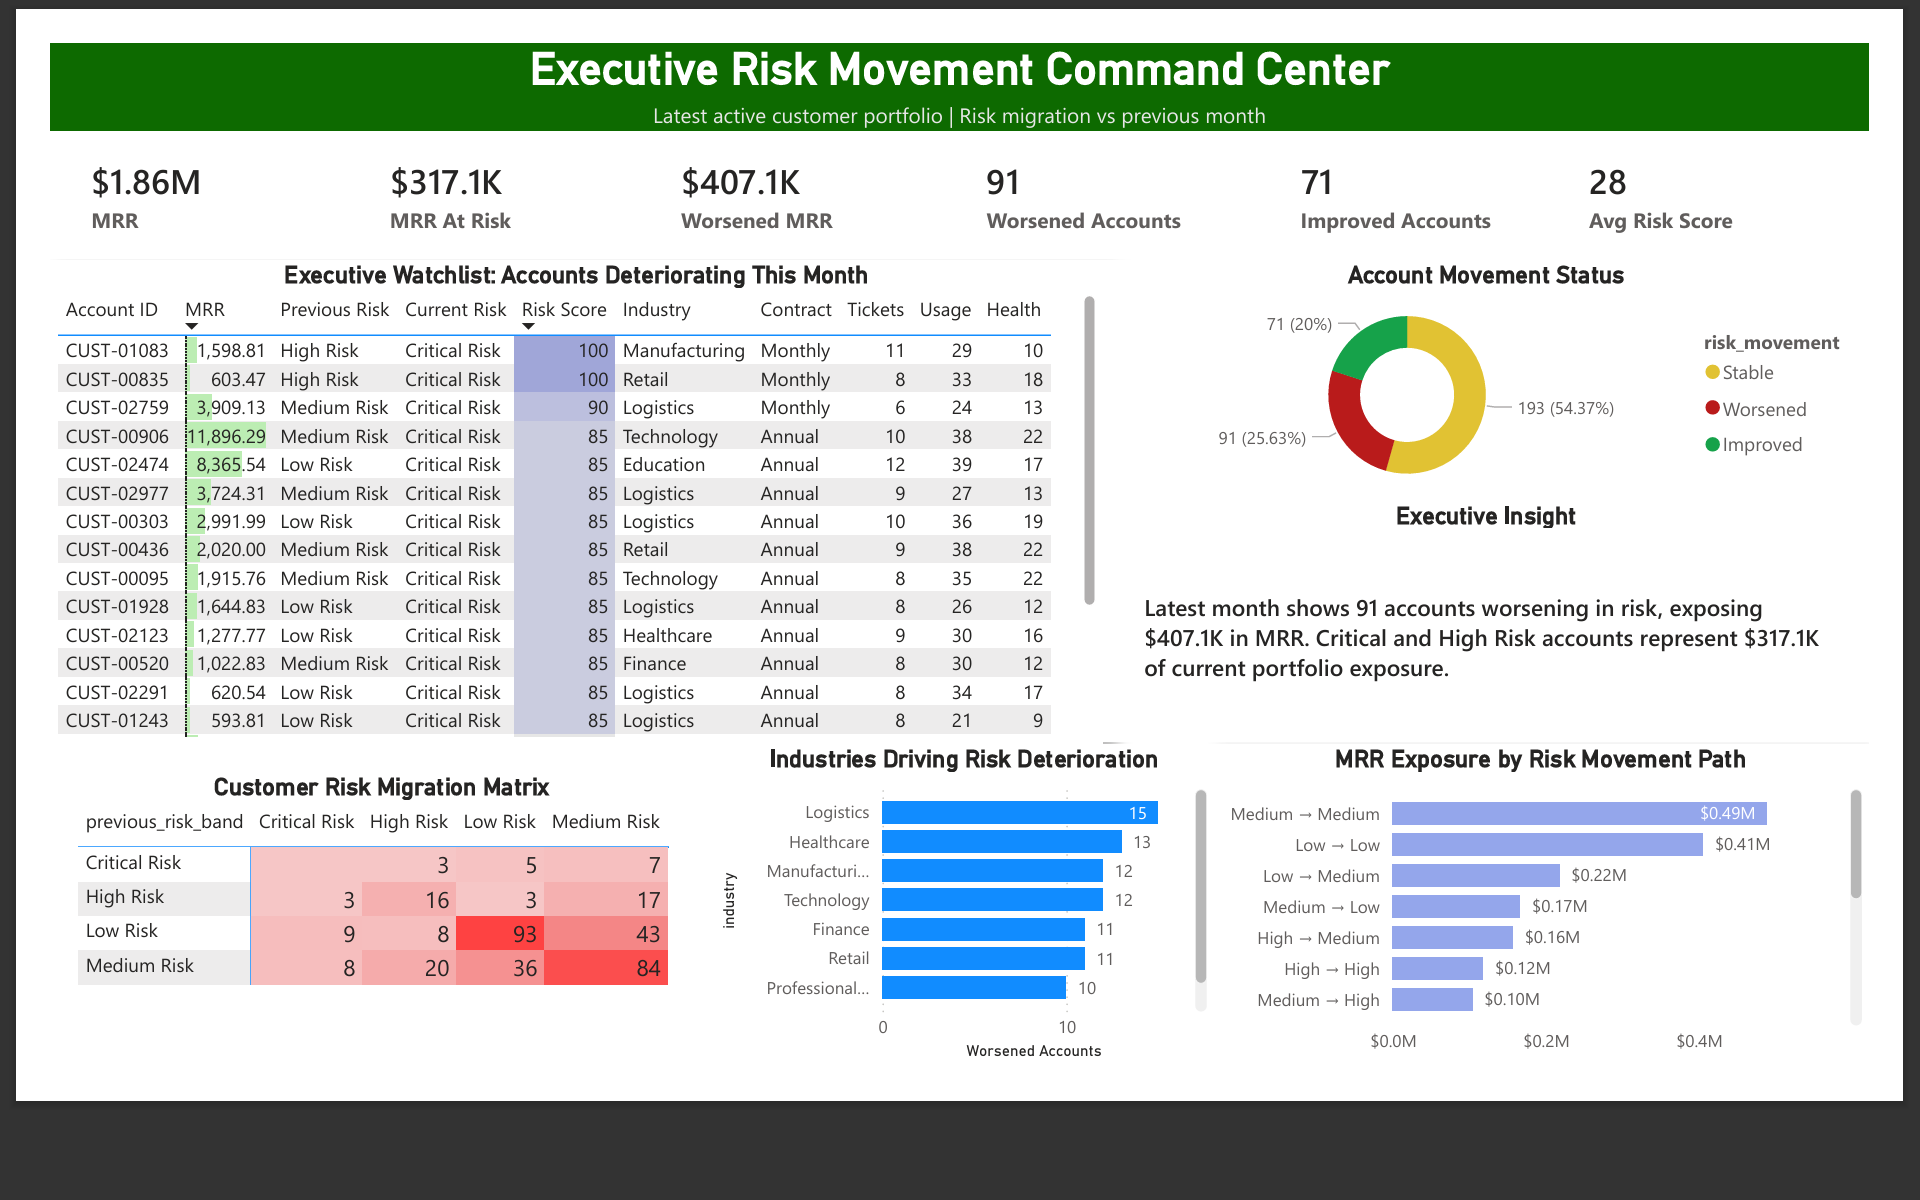

This screenshot's page, from the dashboard's own definition file:
{"tool":"powerbi","page":{"name":"Executive Risk Movement Command Center","canvas":[1280,720],"ordinal":0},"visuals":[{"type":"shape","title":"Executive Risk Movement Command Center","box":[0,0,1280,62],"z":0},{"type":"clusteredBarChart","title":"MRR Exposure by Risk Movement Path","fields":{"Y":["Risk Migration.Migration MRR"],"Category":["Risk Migration.Short Migration Path"]},"box":[818.5,493.2,461.8,227],"z":1000},{"type":"tableEx","title":"Executive Watchlist: Accounts Deteriorating This Month","fields":{"Values":["Risk Migration.company_id","Risk Migration.current_mrr","Risk Migration.previous_risk_band","Risk Migration.current_risk_band","Risk Migration.current_risk_score","Risk Migration.industry","Risk Migration.contract_type","Risk Migration.support_tickets","Risk Migration.feature_usage_score","Risk Migration.account_health_score"]},"box":[0,153.3,740.8,340],"z":3000},{"type":"cardVisual","title":"Executive Insight","fields":{"Data":["Churn Risk Scores.Executive Insight Summary"]},"box":[741.3,322.2,538.7,169.4],"z":4000},{"type":"donutChart","title":"Account Movement Status","fields":{"Category":["Risk Migration.risk_movement"],"Y":["Risk Migration.Migration Accounts"]},"box":[740.8,153.3,539.4,170],"z":5000},{"type":"cardVisual","fields":{"Data":["Risk Migration.Migration MRR"]},"box":[0,62.4,210.1,90.1],"z":6000},{"type":"cardVisual","fields":{"Data":["Risk Migration.Avg Current Risk Score"]},"box":[1054.3,62.4,225.7,90.1],"z":7000},{"type":"cardVisual","fields":{"Data":["Risk Migration.Improved Accounts"]},"box":[851.3,62.4,202.9,90.1],"z":8000},{"type":"cardVisual","fields":{"Data":["Risk Migration.Worsened Accounts"]},"box":[630.4,62.4,220.9,90.1],"z":9000},{"type":"cardVisual","fields":{"Data":["Risk Migration.Worsened MRR"]},"box":[415.5,62.4,214.9,90.1],"z":10000},{"type":"cardVisual","fields":{"Data":["Risk Migration.Critical / High Risk MRR"]},"box":[210.1,62.4,205.3,90.1],"z":11000},{"type":"pivotTable","title":"Customer Risk Migration Matrix","fields":{"Rows":["Risk Migration.previous_risk_band"],"Columns":["Risk Migration.current_risk_band"],"Values":["Risk Migration.Migration Accounts"]},"box":[0,492.9,467,226.7],"z":12000},{"type":"clusteredBarChart","title":"Industries Driving Risk Deterioration","fields":{"Category":["Risk Migration.industry"],"Y":["Risk Migration.Worsened Accounts"]},"box":[467.4,492.9,351.5,226.7],"z":12001}]}

Visuals, with their boxes on the page's 1280x720 design canvas (x1, y1, x2, y2). These are canvas units, not pixel positions in the 1920x1200 screenshot, which may show the page scaled, cropped or inside an application window:
"Executive Risk Movement Command Center" shape: pyautogui.locateOnScreen(0, 0, 1280, 62)
"MRR Exposure by Risk Movement Path" clusteredBarChart: pyautogui.locateOnScreen(818, 493, 1280, 720)
"Executive Watchlist: Accounts Deteriorating This Month" tableEx: pyautogui.locateOnScreen(0, 153, 741, 493)
"Executive Insight" cardVisual: pyautogui.locateOnScreen(741, 322, 1280, 492)
"Account Movement Status" donutChart: pyautogui.locateOnScreen(741, 153, 1280, 323)
cardVisual - Risk Migration.Migration MRR: pyautogui.locateOnScreen(0, 62, 210, 152)
cardVisual - Risk Migration.Avg Current Risk Score: pyautogui.locateOnScreen(1054, 62, 1280, 152)
cardVisual - Risk Migration.Improved Accounts: pyautogui.locateOnScreen(851, 62, 1054, 152)
cardVisual - Risk Migration.Worsened Accounts: pyautogui.locateOnScreen(630, 62, 851, 152)
cardVisual - Risk Migration.Worsened MRR: pyautogui.locateOnScreen(416, 62, 630, 152)
cardVisual - Risk Migration.Critical / High Risk MRR: pyautogui.locateOnScreen(210, 62, 415, 152)
"Customer Risk Migration Matrix" pivotTable: pyautogui.locateOnScreen(0, 493, 467, 720)
"Industries Driving Risk Deterioration" clusteredBarChart: pyautogui.locateOnScreen(467, 493, 819, 720)
